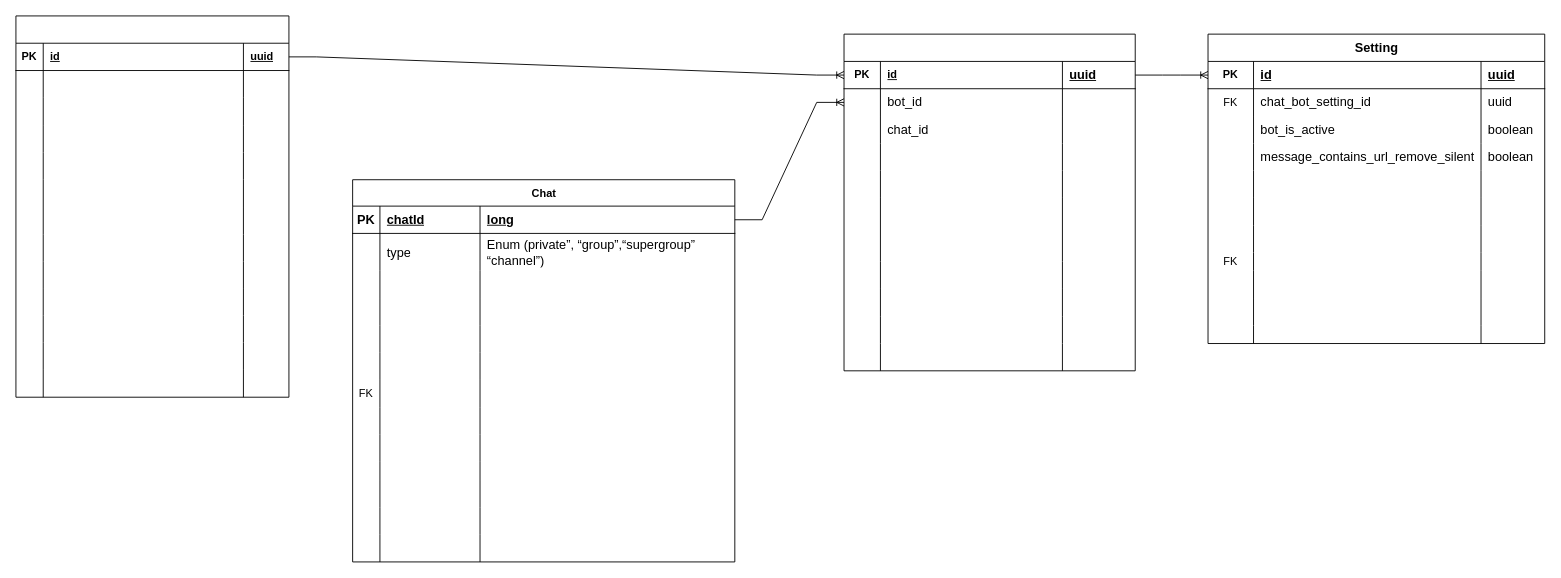
Some shapes in this 1561 by 578 pixel diagram are drawn without their labels. Each missing label, with the box of its shape:
Bot: (15, 15, 289, 397)
ChatBotSettings: (843, 33, 1135, 371)
